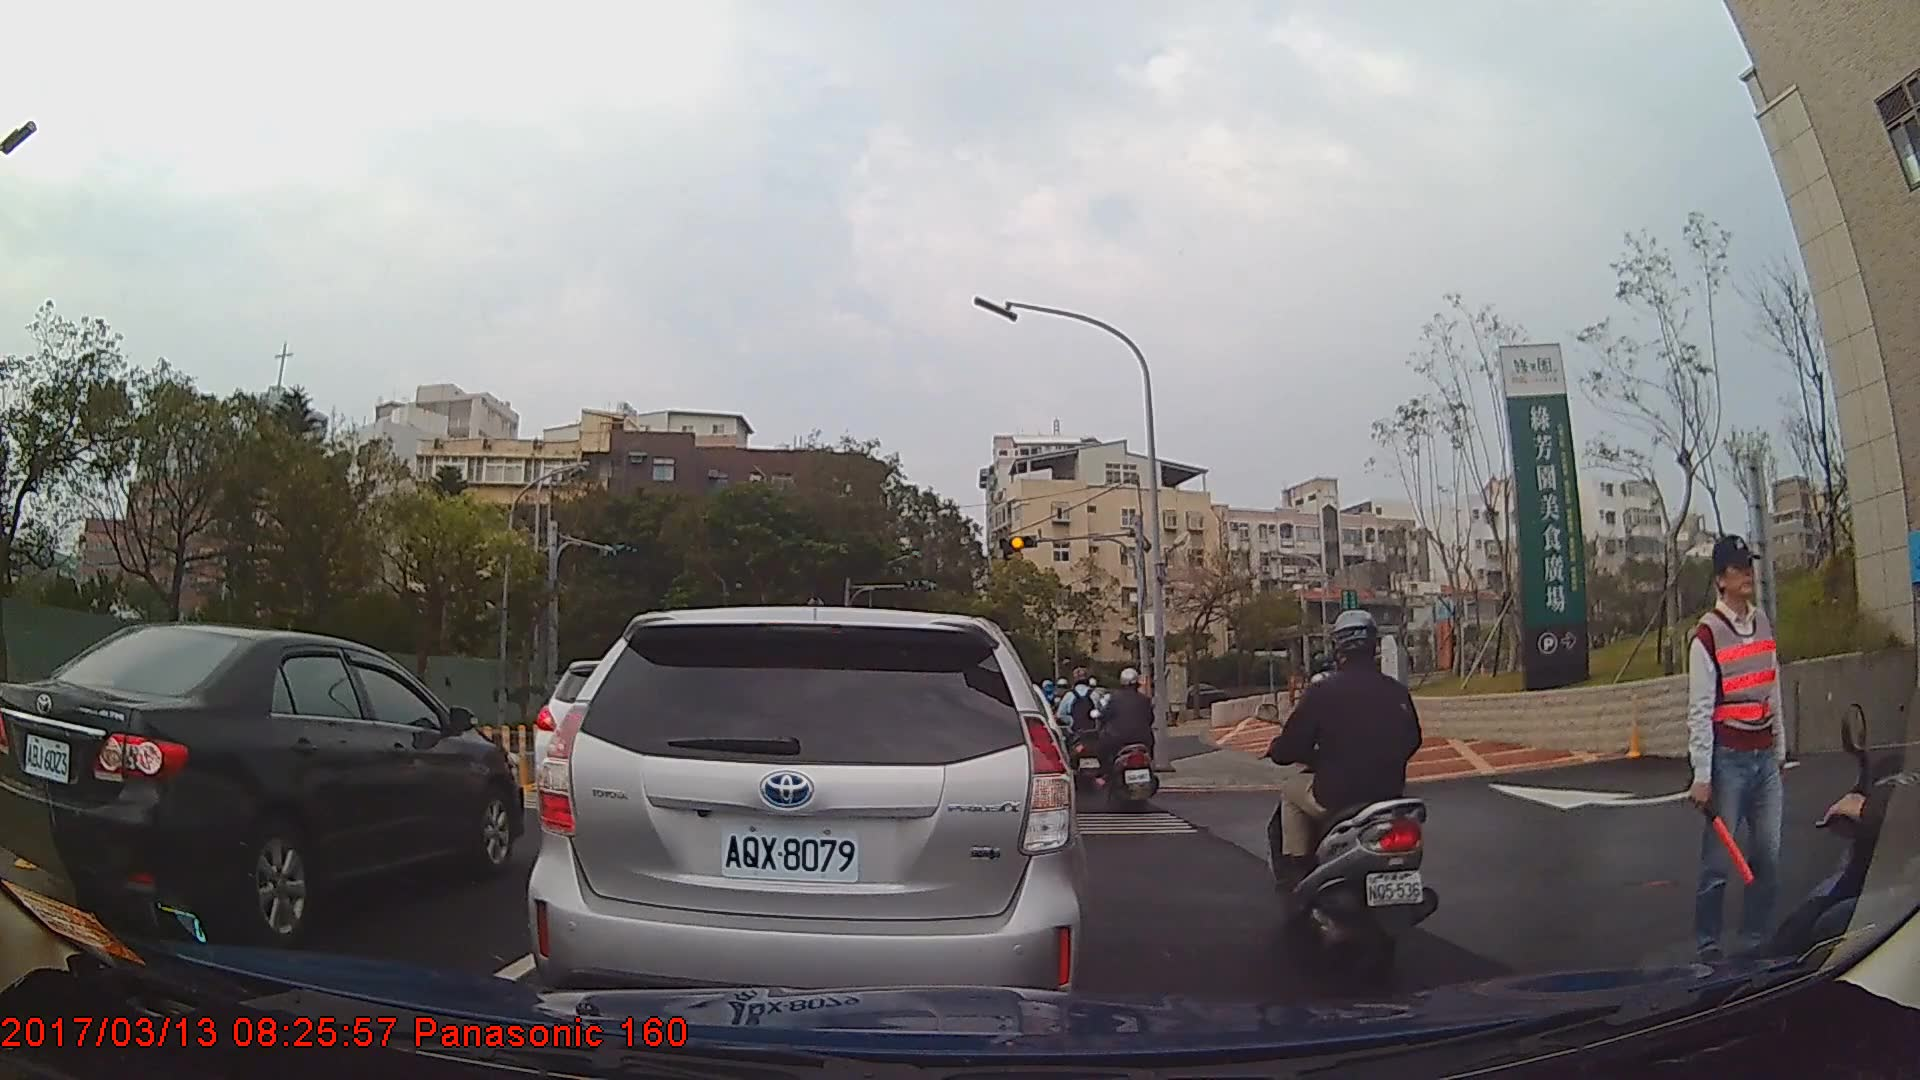pedestrian: (1687, 534, 1804, 981)
rider: (1261, 610, 1441, 975), (1098, 664, 1162, 823), (1057, 666, 1114, 798)
vehicle: (528, 604, 1080, 1027), (0, 619, 523, 946), (1158, 680, 1226, 713)
